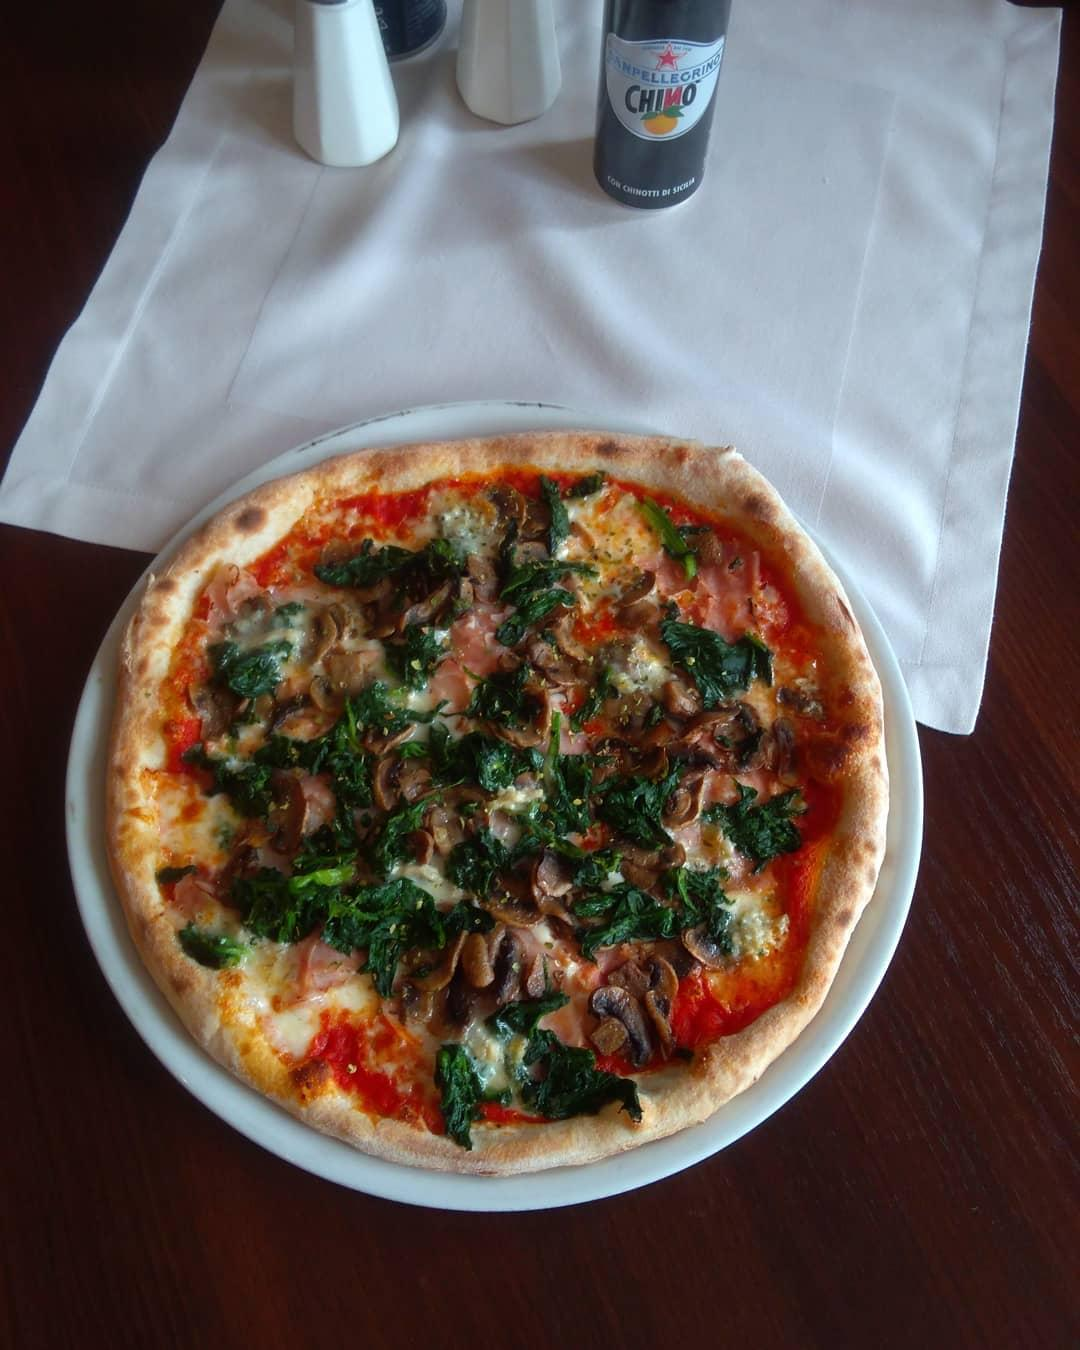Arugula: (305, 876, 450, 990), (494, 1035, 654, 1128), (224, 849, 371, 944), (558, 854, 684, 952), (509, 732, 601, 850), (657, 613, 775, 698), (473, 563, 592, 646), (304, 528, 482, 582), (249, 705, 379, 777), (706, 784, 810, 871), (590, 753, 677, 850), (413, 720, 534, 789), (426, 1038, 488, 1147), (187, 737, 276, 813), (361, 795, 422, 877), (490, 987, 576, 1038), (474, 668, 542, 728), (662, 864, 730, 920)
Mushroom: (359, 719, 438, 814), (364, 575, 476, 639), (399, 926, 467, 1028), (269, 765, 341, 854), (680, 703, 768, 775), (585, 981, 655, 1070), (528, 606, 595, 692), (483, 478, 551, 559), (601, 954, 680, 1020), (608, 832, 687, 898), (480, 679, 551, 748), (304, 646, 369, 716), (528, 846, 579, 929), (659, 756, 716, 829), (468, 883, 549, 931), (497, 935, 550, 1006), (456, 921, 508, 986), (640, 985, 681, 1066), (678, 916, 732, 972), (406, 807, 454, 864), (767, 711, 801, 790), (609, 564, 660, 614), (309, 606, 339, 665), (663, 684, 705, 725), (688, 527, 726, 570)
Pizza: (106, 429, 893, 1176)
